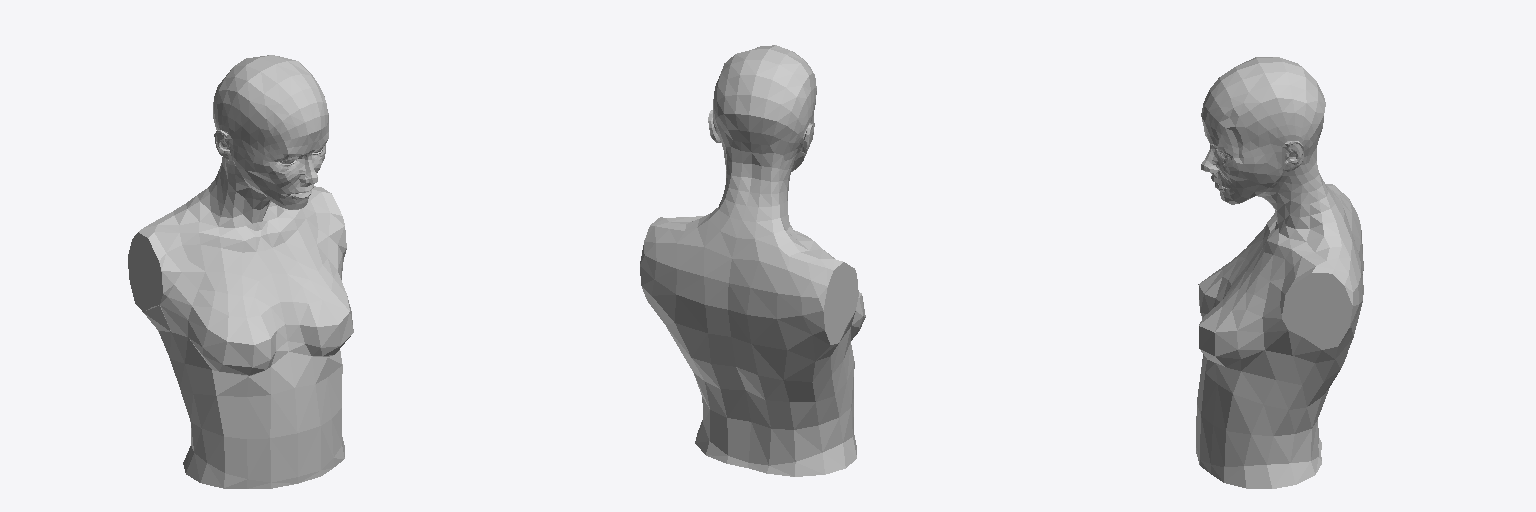
The model's file is mall_mannequin_female_torso1.obj.
The picture shows the model from 3 angles: view 1: azimuth 30°, elevation 25°; view 2: azimuth 150°, elevation 25°; view 3: azimuth 270°, elevation 25°; orthographic projection.
Parts seen in each view (by area): view 1: mall_mannequin_female_torso1; view 2: mall_mannequin_female_torso1; view 3: mall_mannequin_female_torso1.
Part boxes in pixels (left/top/right/bottom): mall_mannequin_female_torso1: left=128, top=55, right=353, bottom=488; mall_mannequin_female_torso1: left=640, top=45, right=865, bottom=476; mall_mannequin_female_torso1: left=1196, top=57, right=1363, bottom=488.
Size of the model in its own units: 13.17 by 27.01 by 10.42.